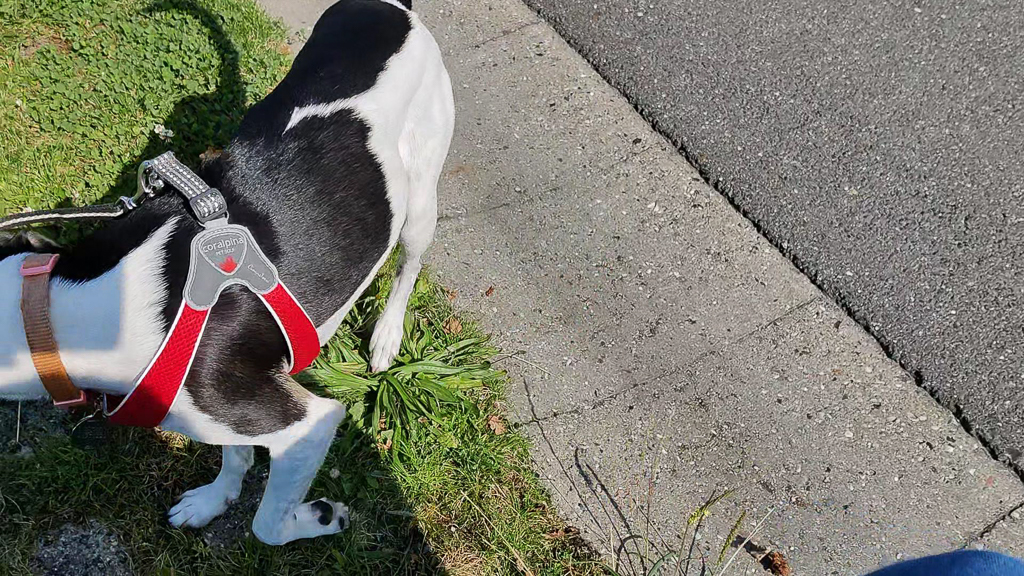Dog: (0, 0, 469, 553)
Humanoid: (853, 535, 1024, 576)
